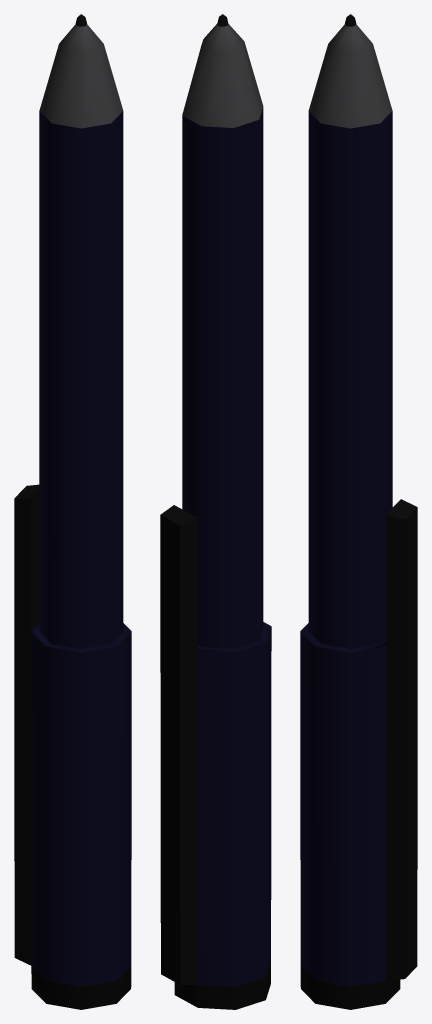
File: pen.fbx
The picture shows the model from 3 angles, left to right: view 1: azimuth 90°, elevation 25°; view 2: azimuth 150°, elevation 25°; view 3: azimuth 270°, elevation 25°; orthographic projection.
Parts seen in each view (by area): view 1: pCylinder1; view 2: pCylinder1; view 3: pCylinder1.
Part boxes in pixels (bbox=[...]): pCylinder1: bbox=[14, 14, 131, 1009]; pCylinder1: bbox=[160, 14, 271, 1009]; pCylinder1: bbox=[300, 14, 417, 1009].
Size of the model in its own units: 0.2224 by 2.37 by 0.2595.
